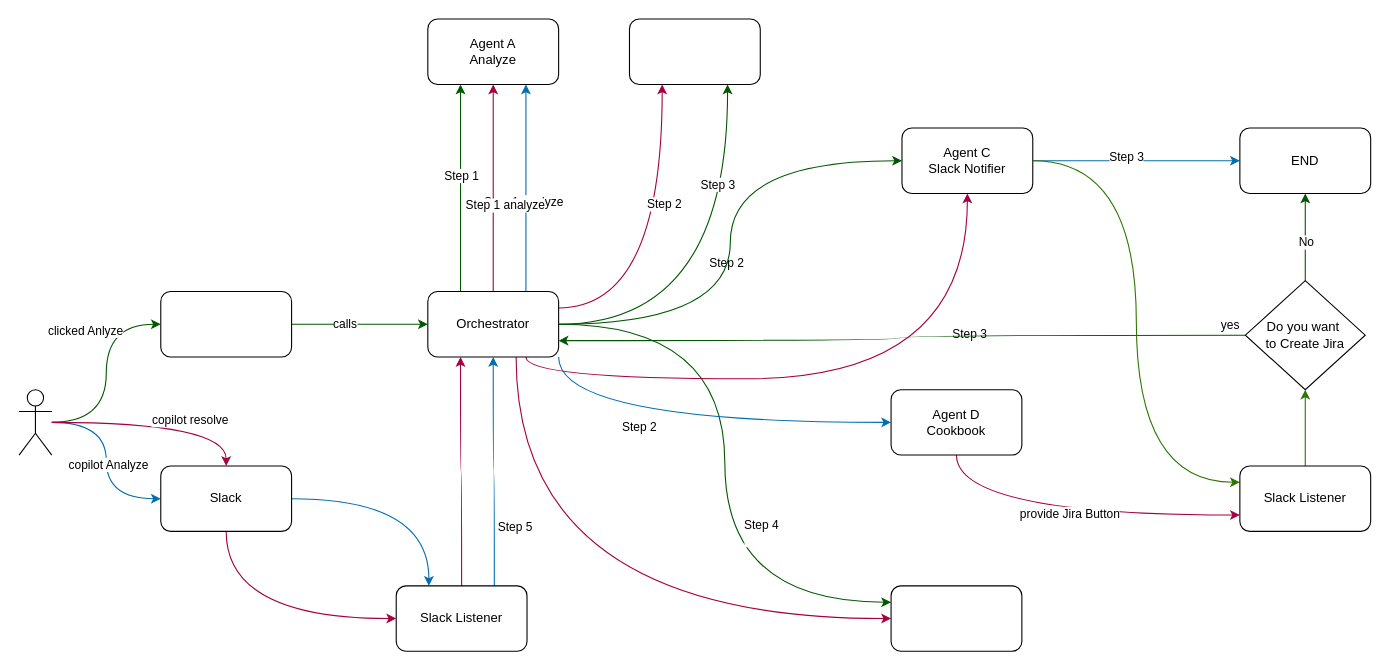
This 1390x670 diagram has some shape labels left out. Each missing label, with the centre of its shape:
Actor: (x=35, y=422)
Agent B Remidate: (x=694, y=51)
Agent E Jira Integration: (x=956, y=618)
UI: (x=226, y=323)
